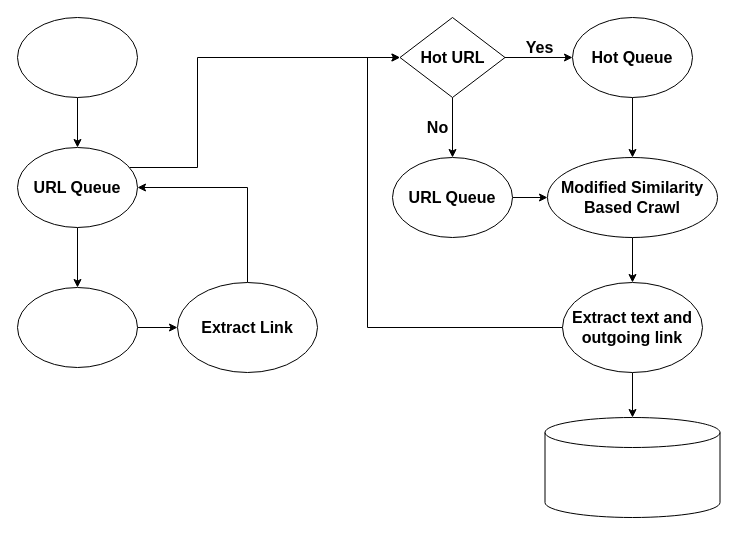
This 738x535 diagram has some shape labels left out. Here are the shapes that lost their labels. From the top down, the centre of each, then its label:
At point (77, 57): "First Link".
At point (77, 327): "BFS Crawl".
At point (632, 467): "Storage".
